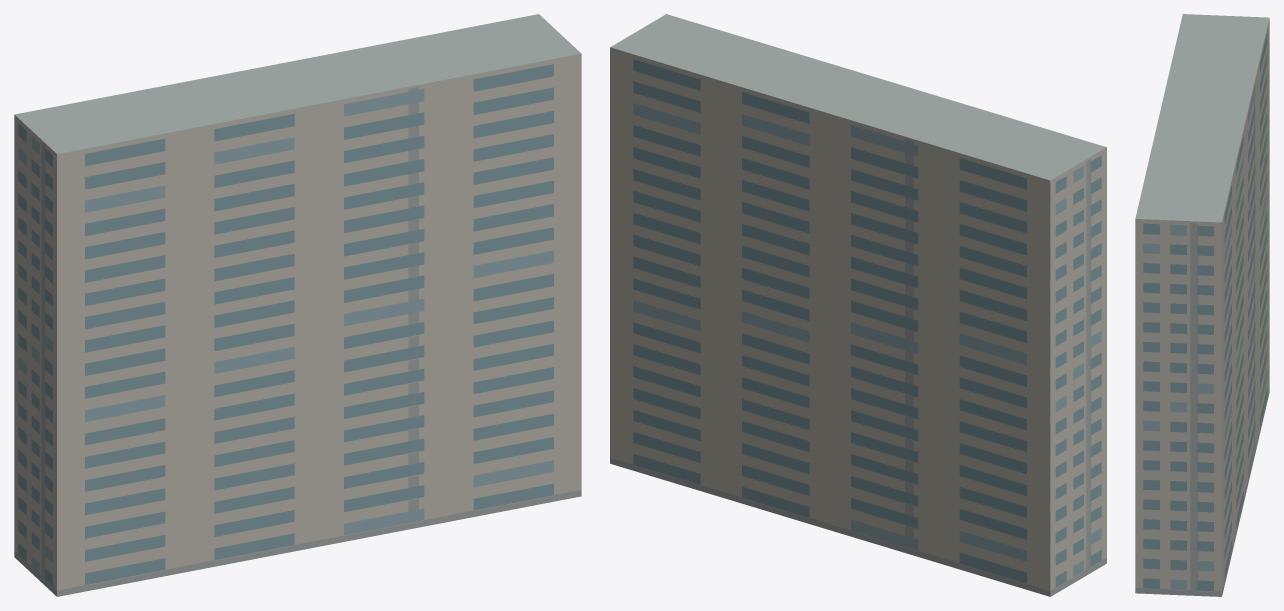
File: residential-dd3212dc-348f-4e8c-a4d2-19a488737b4e.glb
3 renders of one model, left to right at view 1: azimuth 30°, elevation 25°; view 2: azimuth 150°, elevation 25°; view 3: azimuth 270°, elevation 25°, orthographic. The views are drawn at different scales.
Parts seen in each view (by area): view 1: residential-dd3212dc-348f-4e8c-a4d2-19a488737b4e.tmp; view 2: residential-dd3212dc-348f-4e8c-a4d2-19a488737b4e.tmp; view 3: residential-dd3212dc-348f-4e8c-a4d2-19a488737b4e.tmp.
Boxes of the visible parts, <box> form: residential-dd3212dc-348f-4e8c-a4d2-19a488737b4e.tmp: <box>14,14,581,596</box>; residential-dd3212dc-348f-4e8c-a4d2-19a488737b4e.tmp: <box>610,14,1106,596</box>; residential-dd3212dc-348f-4e8c-a4d2-19a488737b4e.tmp: <box>1135,14,1269,596</box>.
Size of the model in its own units: 59.7 by 50 by 16.26.
